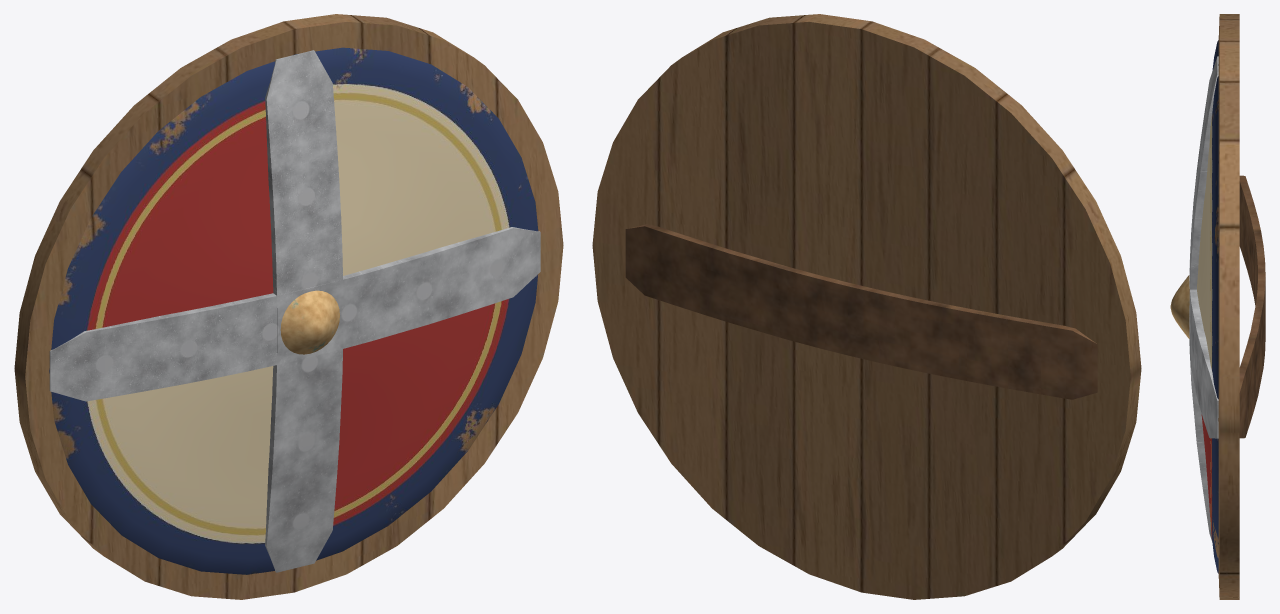
File: escudo.glb
3 views of the same model, side by side, from view 1: azimuth 30°, elevation 25°; view 2: azimuth 150°, elevation 25°; view 3: azimuth 270°, elevation 25° (orthographic). The views are drawn at different scales.
Visible parts, largest first — view 1: Frente, Bandas, Cuerpo, Umbo; view 2: Cuerpo, Asa; view 3: Cuerpo, Frente, Bandas, Asa, Umbo.
Part boxes in pixels (bbox=[...]): Frente: bbox=[49, 47, 538, 574]; Bandas: bbox=[49, 50, 540, 572]; Cuerpo: bbox=[14, 14, 563, 599]; Umbo: bbox=[280, 290, 339, 354]; Cuerpo: bbox=[592, 14, 1141, 599]; Asa: bbox=[625, 224, 1097, 399]; Cuerpo: bbox=[1218, 14, 1239, 599]; Frente: bbox=[1197, 40, 1218, 573]; Bandas: bbox=[1189, 56, 1218, 541]; Asa: bbox=[1239, 175, 1265, 438]; Umbo: bbox=[1170, 275, 1189, 338].
Bounding box in the file's own units: 0.8568 × 0.8568 × 0.139.
Materials: 5 (5 with a texture image).
